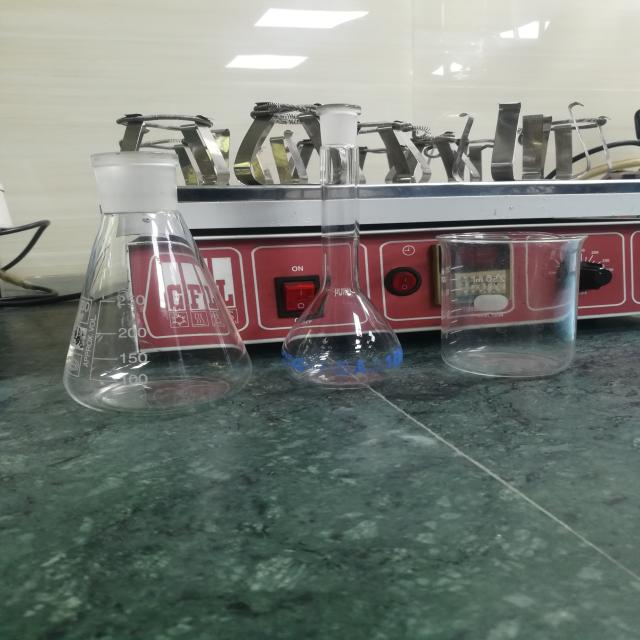Beaker: (428, 205, 606, 391)
Conical_Flask: (37, 121, 256, 429)
Volumetric_Flask: (267, 92, 416, 394)
